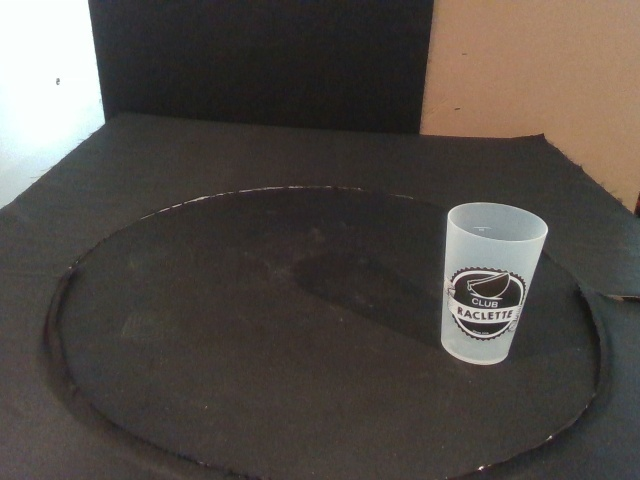glass: (438, 200, 550, 367)
